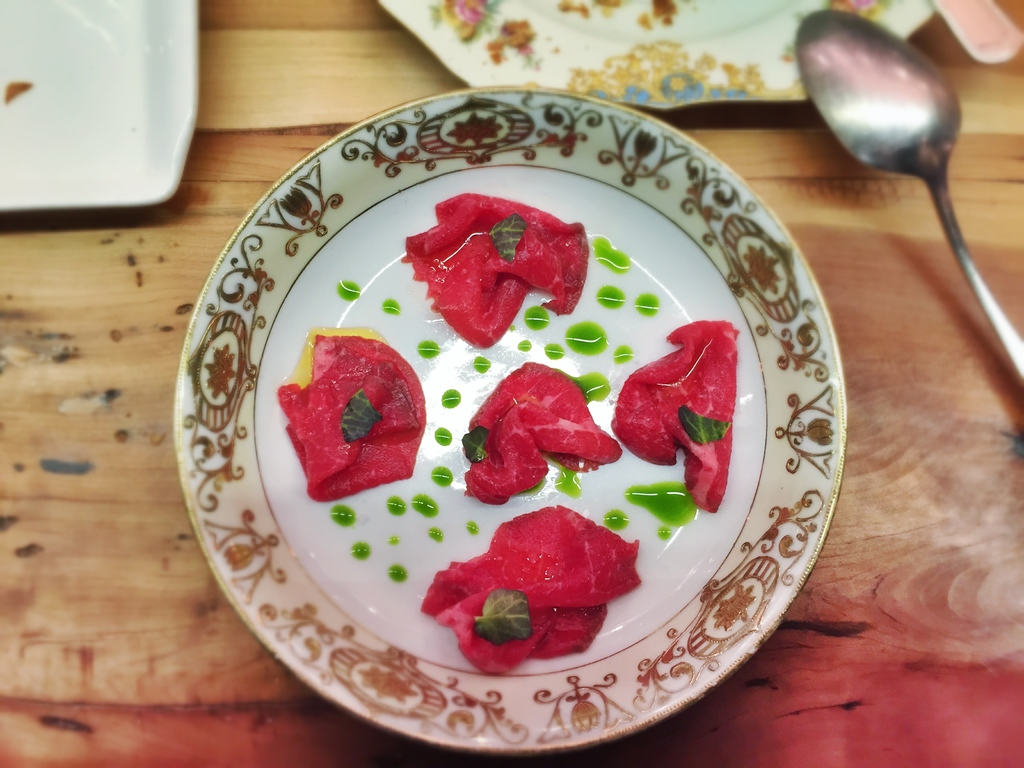plate: (184, 61, 874, 722)
